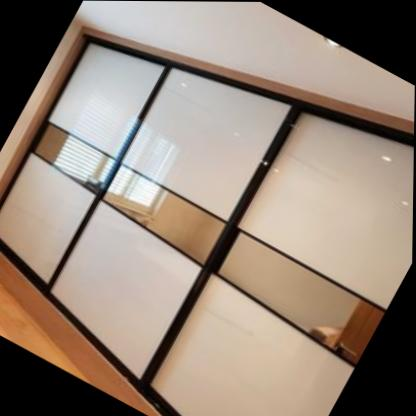Closet: (0, 29, 415, 416)
Wooden floor: (0, 254, 158, 416)
